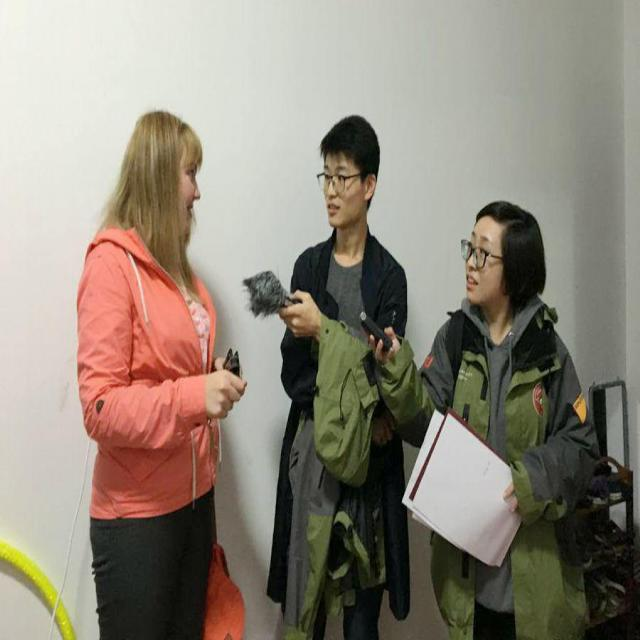Manusia: (86, 104, 228, 640), (282, 109, 405, 630), (439, 181, 571, 640)
